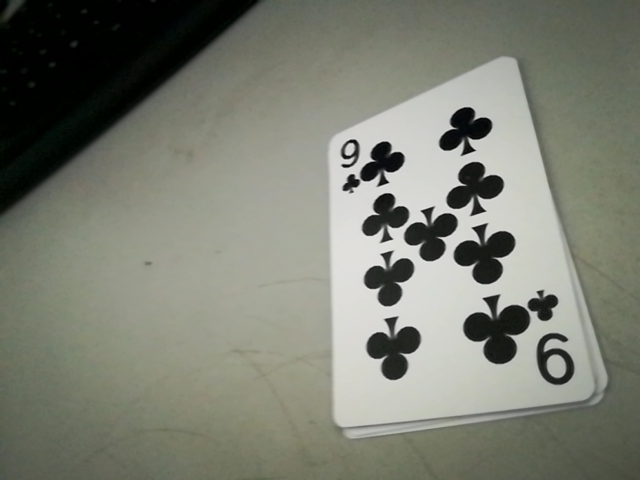mh 9: (524, 289, 582, 389), (334, 130, 365, 195)
